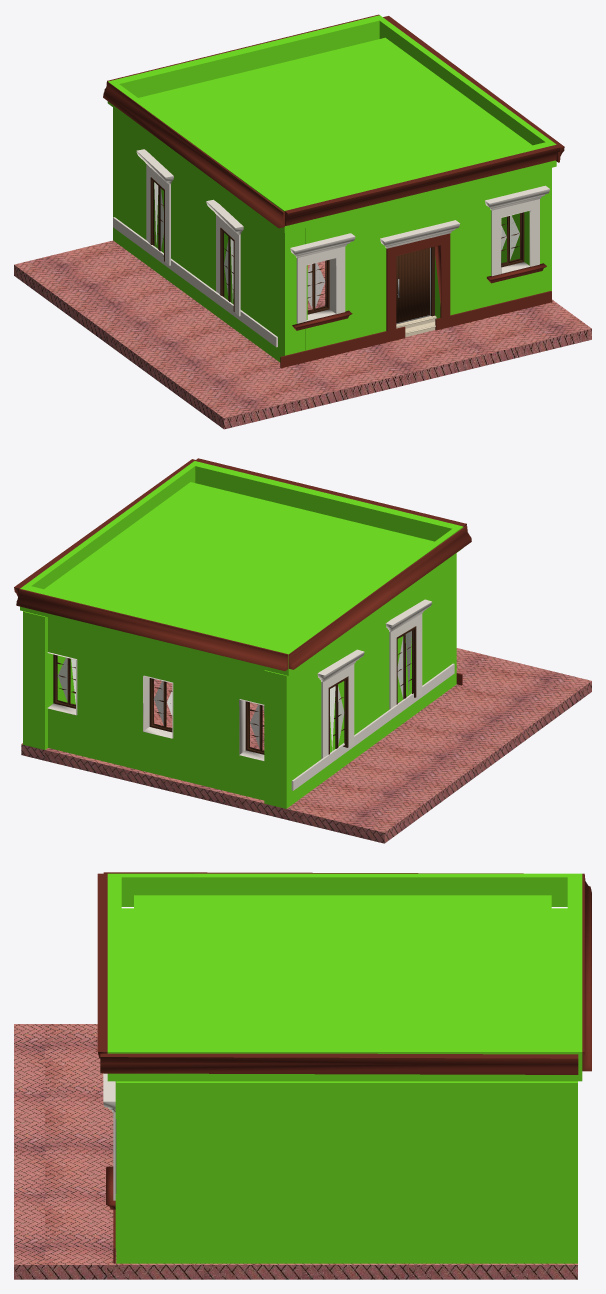
Rendered from casaverde_optim.obj.
The picture shows the model from 3 angles, top to bottom: view 1: azimuth 30°, elevation 25°; view 2: azimuth 150°, elevation 25°; view 3: azimuth 270°, elevation 25°; orthographic projection. The views are drawn at different scales.
Parts seen in each view (by area): view 1: 3dSolid001; view 2: 3dSolid001; view 3: 3dSolid001.
Boxes of the visible parts, x1,y1,x2,y2 form: 3dSolid001: (14,14,591,429); 3dSolid001: (14,458,591,843); 3dSolid001: (14,872,591,1279).
Size of the model in its own units: 12.53 by 5.42 by 12.46.
